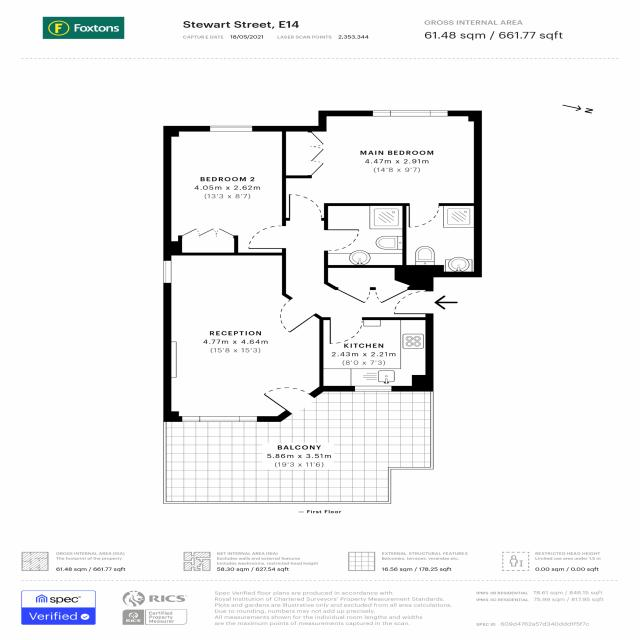DOOR: (262, 387, 316, 415), (278, 297, 317, 333), (392, 289, 434, 315), (329, 317, 364, 345), (287, 193, 323, 220), (248, 224, 286, 249), (407, 203, 441, 229), (324, 228, 360, 252)
ROOM: (163, 253, 324, 422), (281, 110, 482, 228), (163, 125, 287, 256), (319, 317, 434, 392)
WINDOW: (181, 415, 259, 423), (372, 110, 449, 117), (209, 125, 253, 132), (354, 385, 392, 392), (163, 260, 172, 284)
